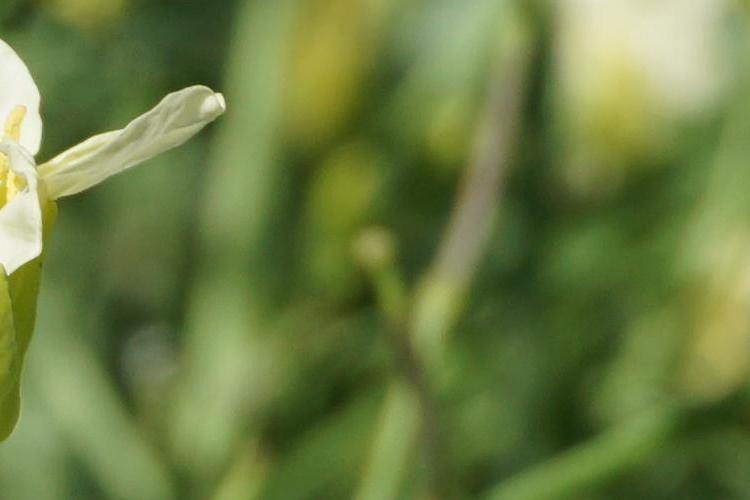white: (2, 46, 234, 286)
